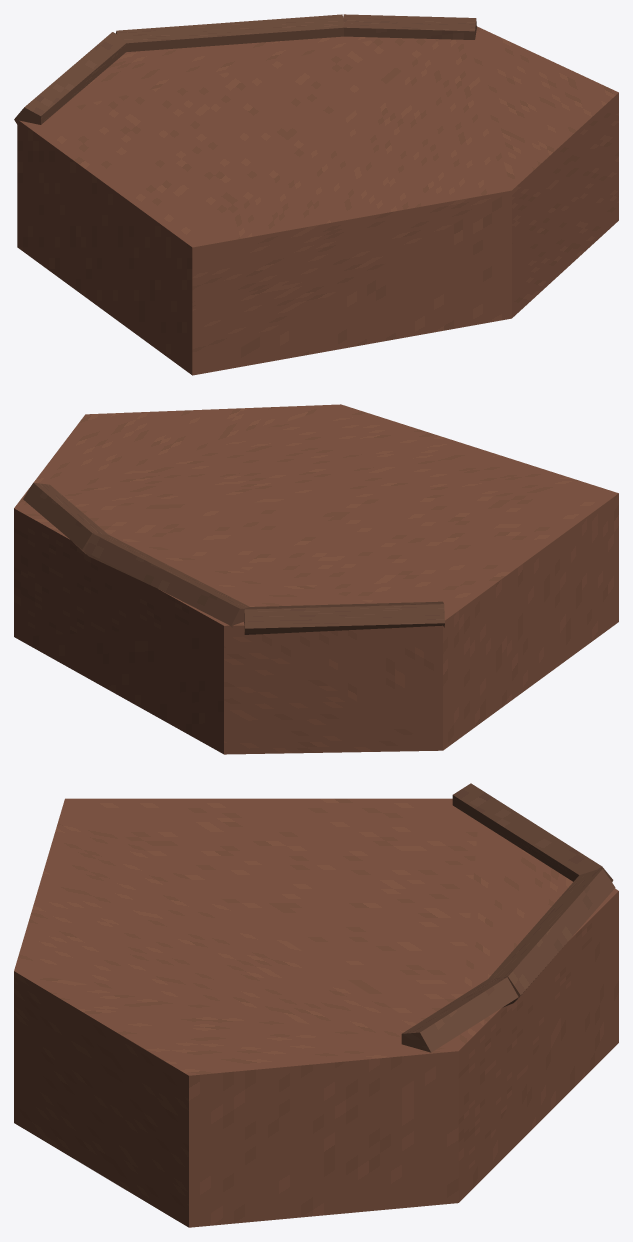
File: meat_cooked.glb
3 renders of one model, top to bottom at view 1: azimuth 30°, elevation 25°; view 2: azimuth 150°, elevation 25°; view 3: azimuth 270°, elevation 25°, orthographic. The views are drawn at different scales.
Parts seen in each view (by area): view 1: block_cut of meat, block_browned edge 1, block_browned edge 0, block_browned edge 2; view 2: block_cut of meat, block_browned edge 0, block_browned edge 1, block_browned edge 2; view 3: block_cut of meat, block_browned edge 1, block_browned edge 0, block_browned edge 2.
Boxes of the visible parts, bbox=[...] form: block_cut of meat: bbox=[17, 26, 618, 375]; block_browned edge 1: bbox=[116, 14, 343, 51]; block_browned edge 0: bbox=[14, 32, 126, 126]; block_browned edge 2: bbox=[343, 14, 476, 39]; block_cut of meat: bbox=[14, 404, 618, 754]; block_browned edge 0: bbox=[244, 601, 444, 634]; block_browned edge 1: bbox=[84, 533, 249, 627]; block_browned edge 2: bbox=[23, 482, 107, 554]; block_cut of meat: bbox=[14, 798, 618, 1227]; block_browned edge 1: bbox=[488, 868, 615, 1001]; block_browned edge 0: bbox=[452, 783, 613, 882]; block_browned edge 2: bbox=[401, 977, 518, 1052].
Bounding box in the file's own units: 0.114 × 0.0322 × 0.1046.
1 material, 1 textured.
